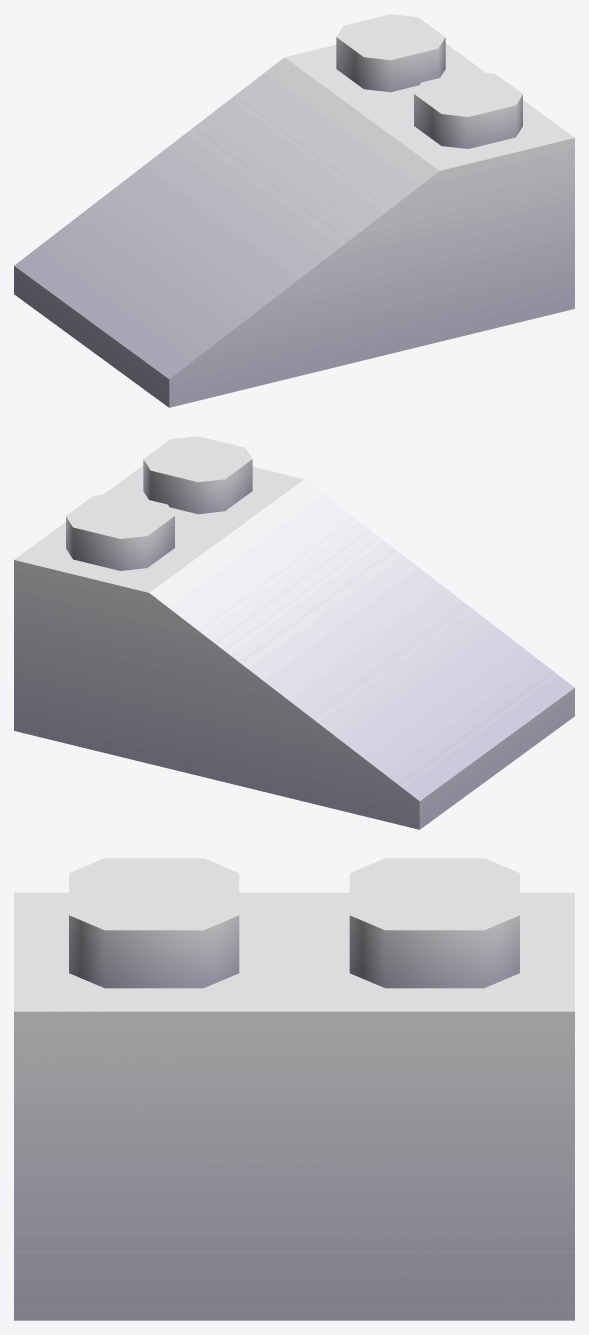
File: bevel-lq-brick-slope-3x2.glb
3 renders of one model, top to bottom at view 1: azimuth 30°, elevation 25°; view 2: azimuth 150°, elevation 25°; view 3: azimuth 270°, elevation 25°, orthographic. The views are drawn at different scales.
Visible parts, largest first — view 1: bevel-lq-brick-slope-3x2; view 2: bevel-lq-brick-slope-3x2; view 3: bevel-lq-brick-slope-3x2.
Part boxes in pixels (left/top/right/bottom): bevel-lq-brick-slope-3x2: left=14, top=14, right=574, bottom=407; bevel-lq-brick-slope-3x2: left=14, top=436, right=574, bottom=829; bevel-lq-brick-slope-3x2: left=14, top=858, right=574, bottom=1320.
Bounding box in the file's own units: 1.19 × 0.57 × 0.79.
1 material, 1 textured.
